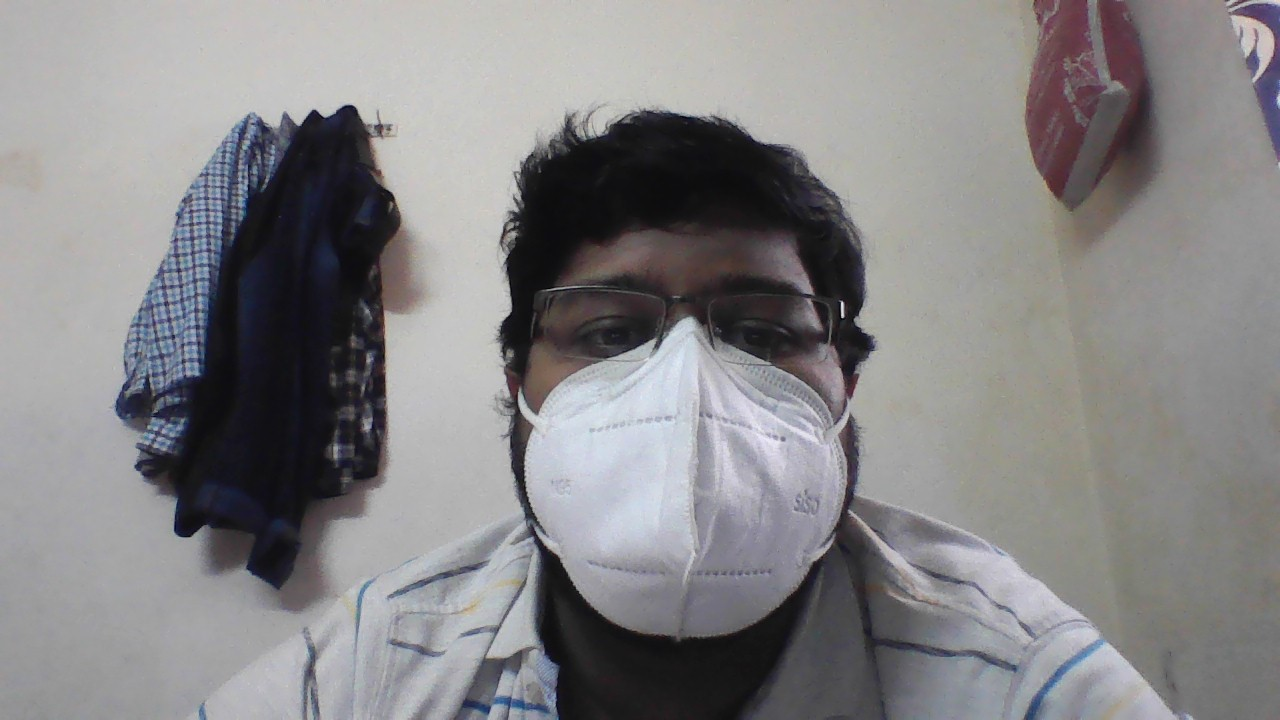Mask: (504, 357, 876, 585)
